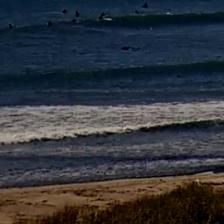surfer: (98, 12, 107, 20), (121, 46, 130, 52), (142, 2, 149, 8), (134, 10, 144, 14), (74, 11, 80, 17), (62, 8, 68, 14), (48, 21, 54, 27), (8, 24, 14, 30), (71, 18, 76, 23)
